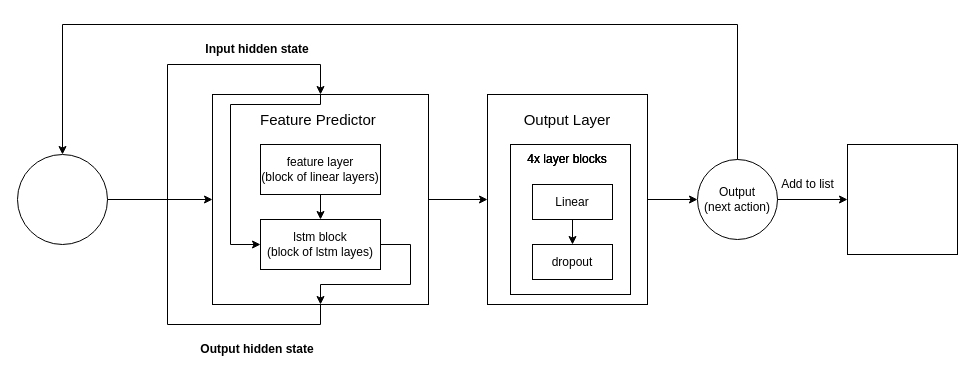
Image size: 975x382. Some labels were removed from this diagram. The shapes that lost their labels are listed below. From the top down, each one's centre as x and y in pixels, then its label:
pixel 62 199: Input (previos action)
pixel 902 199: List of actions
